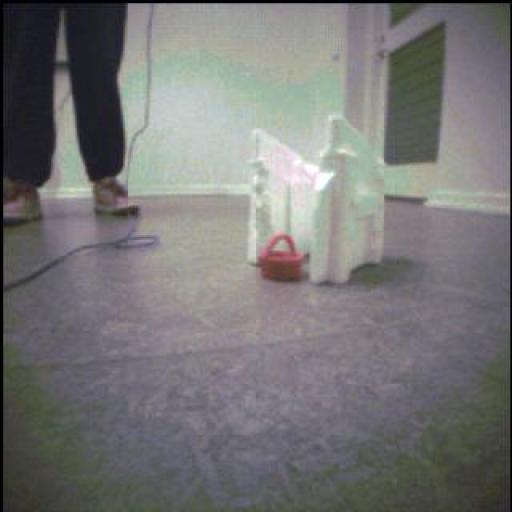Bucket: (258, 236, 306, 284)
